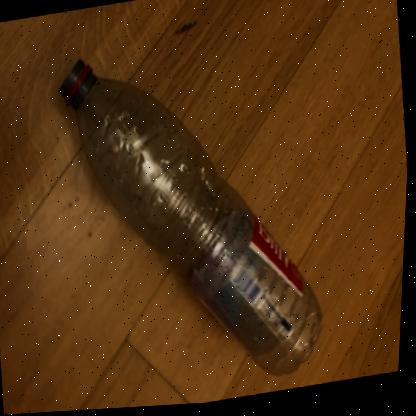Plastic: (61, 64, 324, 377)
